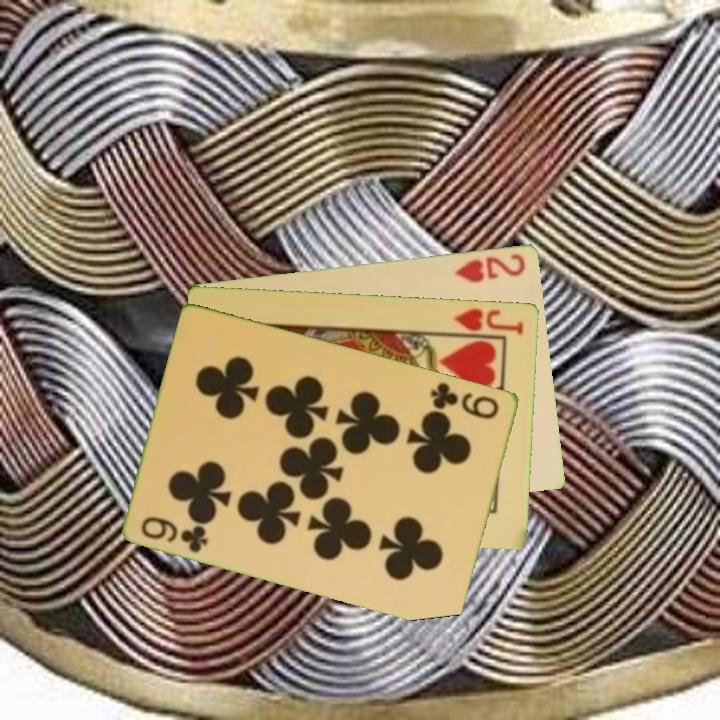2h: (451, 249, 529, 285)
9c: (427, 378, 503, 422), (137, 512, 211, 555)
Jh: (450, 304, 527, 337)
